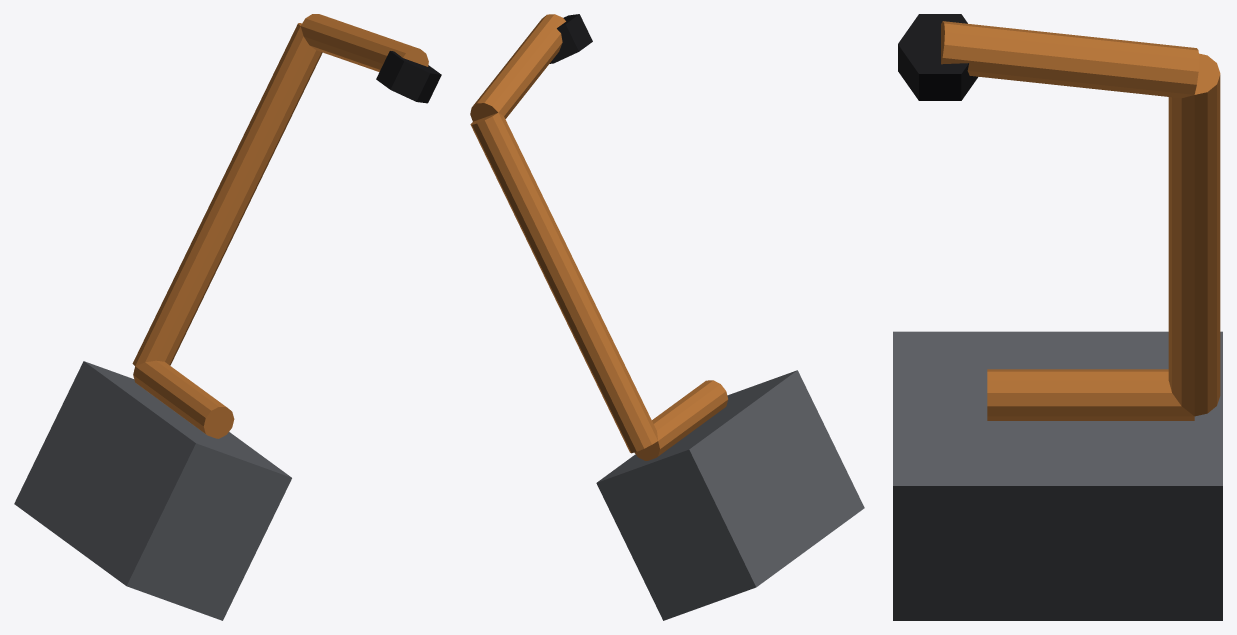
File: earthing_ok.glb
The picture shows the model from 3 angles, left to right: view 1: azimuth 30°, elevation 25°; view 2: azimuth 150°, elevation 25°; view 3: azimuth 270°, elevation 25°; orthographic projection. The views are drawn at different scales.
Parts seen in each view (by area): view 1: earthing_ok; view 2: earthing_ok; view 3: earthing_ok.
Boxes of the visible parts, x1,y1,x2,y2 form: earthing_ok: (14,14,441,620); earthing_ok: (470,14,864,620); earthing_ok: (893,14,1222,620).
Bounding box in the file's own units: 0.2331 × 0.3496 × 0.14.
